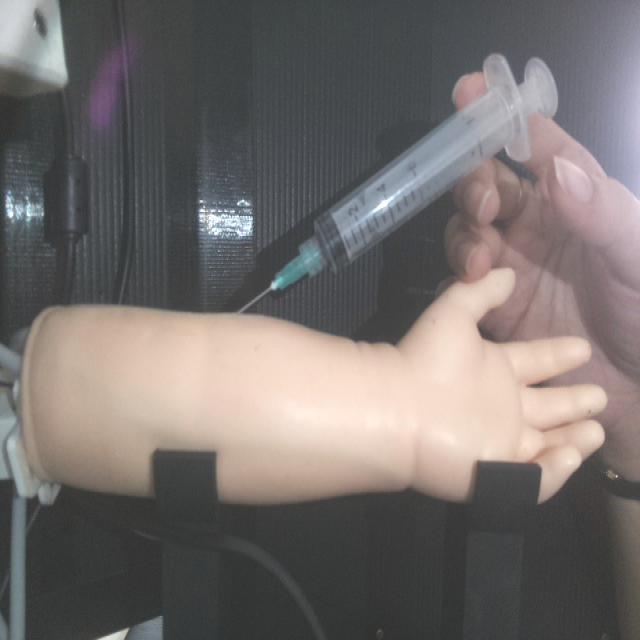Above 30 degrees: (231, 49, 559, 315)
